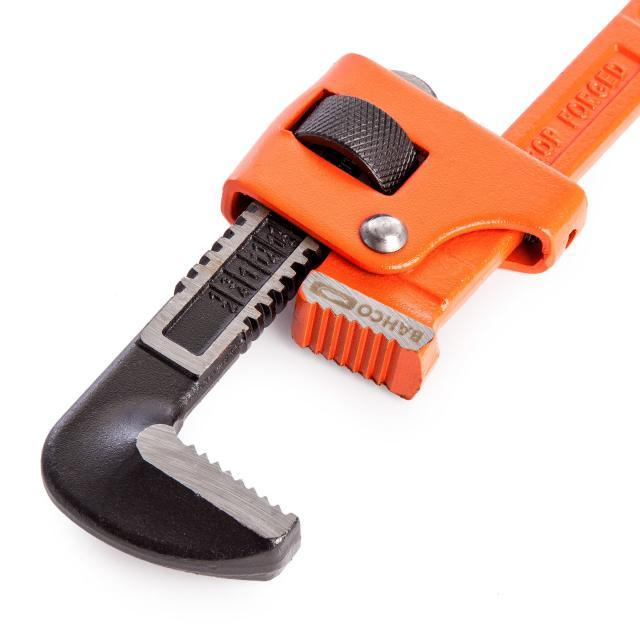wrench: (35, 0, 640, 585)
